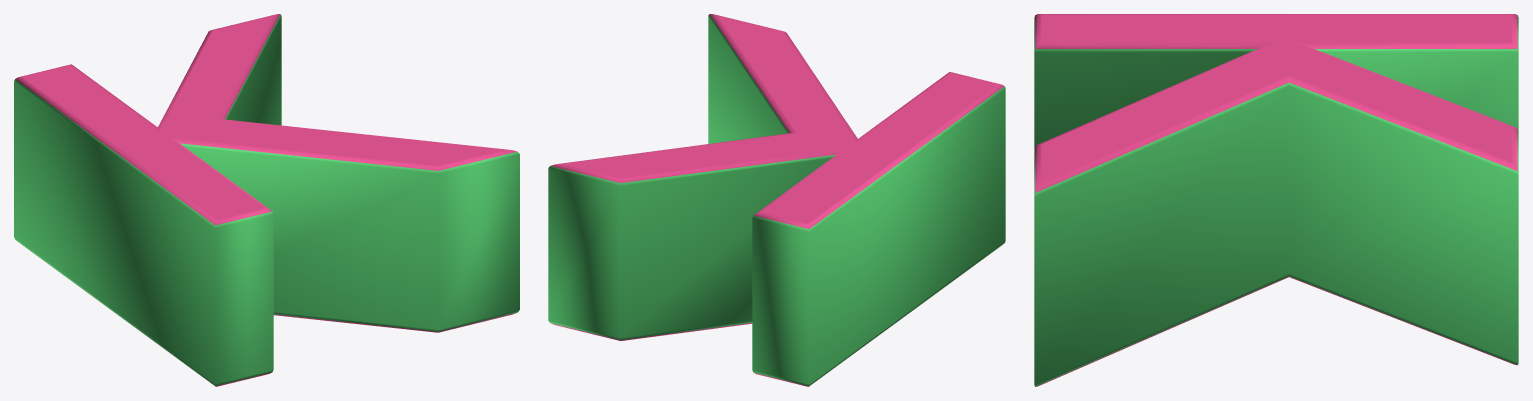
The model's file is letter_K.fbx.
3 views of the same model, side by side, from view 1: azimuth 30°, elevation 25°; view 2: azimuth 150°, elevation 25°; view 3: azimuth 270°, elevation 25° (orthographic). The views are drawn at different scales.
Parts seen in each view (by area): view 1: Letter_K; view 2: Letter_K; view 3: Letter_K.
Boxes of the visible parts, left/top/right/bottom form: Letter_K: left=14, top=14, right=519, bottom=386; Letter_K: left=548, top=14, right=1005, bottom=386; Letter_K: left=1034, top=14, right=1518, bottom=386.
Size of the model in its own units: 61.47 by 32 by 70.2.
